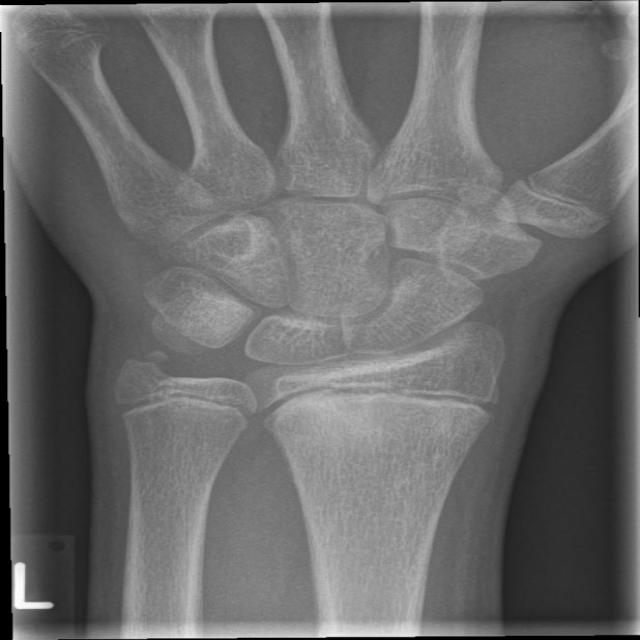fracture: (240, 359, 511, 432), (109, 369, 270, 436)
